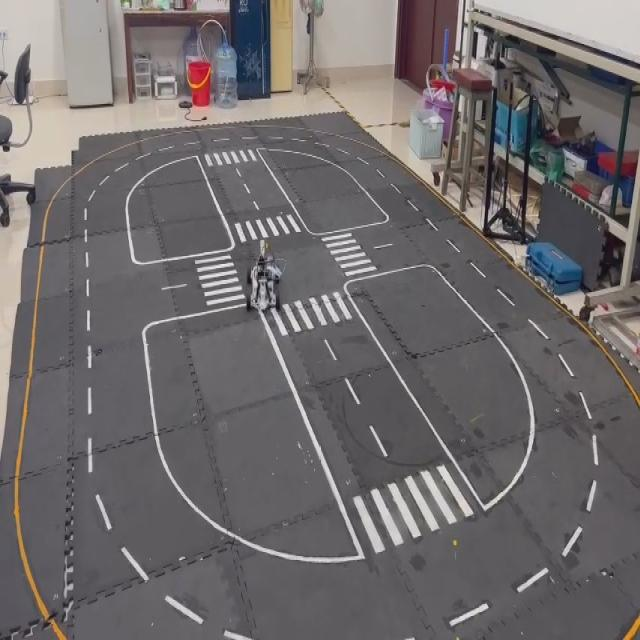SiCo-CAR: (244, 237, 284, 312)
